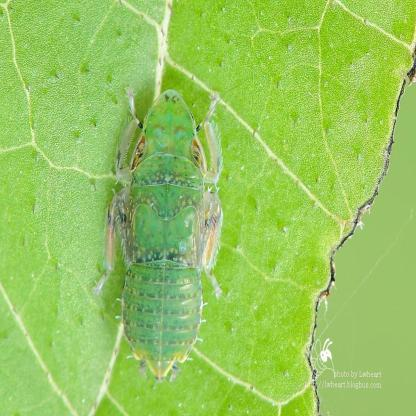green-leafhopper: (105, 89, 224, 381)
